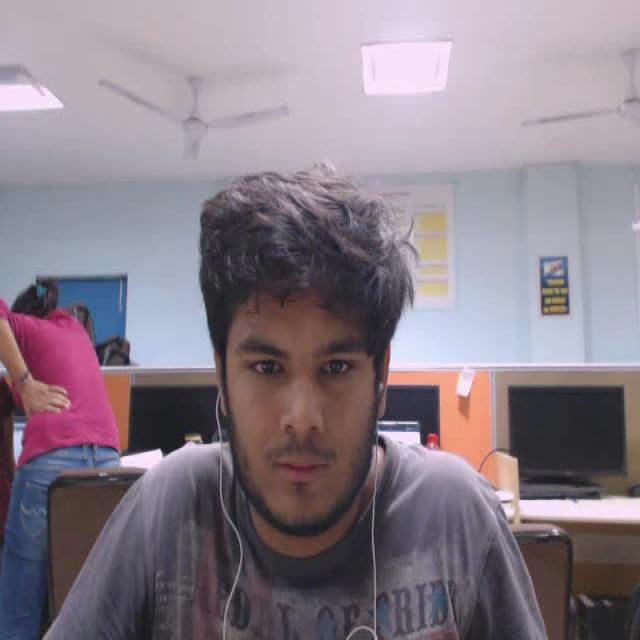Engaged: (158, 144, 474, 562)
